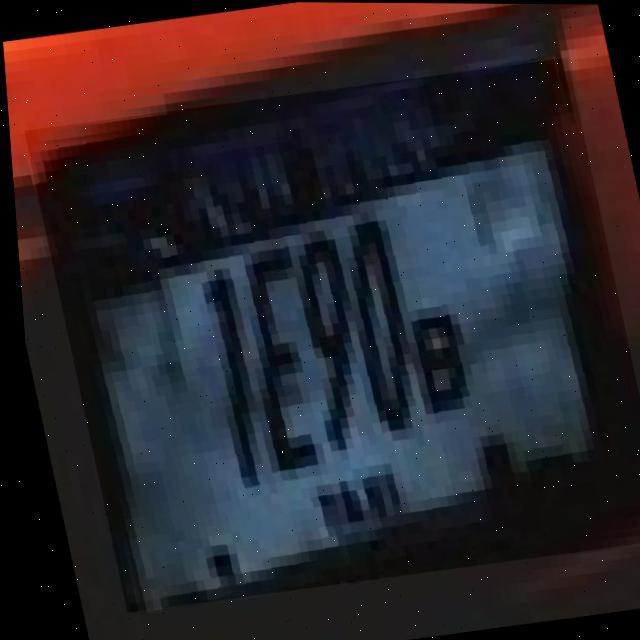LicensePlate: (18, 54, 640, 615)
